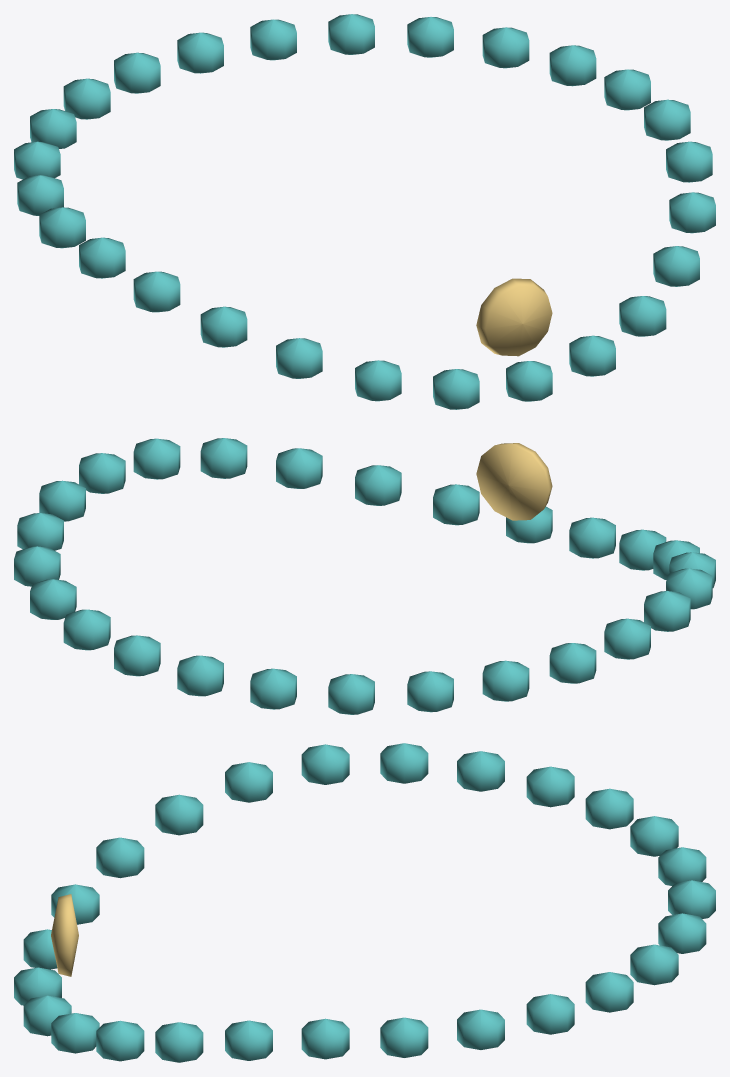
Rendered from acc-necklace.glb.
3 renders of one model, top to bottom at view 1: azimuth 30°, elevation 25°; view 2: azimuth 150°, elevation 25°; view 3: azimuth 270°, elevation 25°, orthographic.
Visible parts, largest first — view 1: pendant, bead22, bead21, bead8, bead9, bead2, bead24, bead13, bead12, bead14, bead0, bead7 (+15 smaller); view 2: pendant, bead5, bead11, bead17, bead4, bead18, bead13, bead12, bead16, bead19, bead25, bead3 (+15 smaller); view 3: bead11, bead6, bead10, bead23, bead7, bead3, bead20, bead22, bead9, bead19, bead4, bead16 (+15 smaller).
Boxes of the visible parts, <box> form: pendant: <box>476,278,552,356</box>; bead22: <box>200,306,247,347</box>; bead21: <box>133,271,180,312</box>; bead8: <box>549,45,596,86</box>; bead9: <box>482,27,529,68</box>; bead2: <box>619,296,666,336</box>; bead24: <box>355,360,401,401</box>; bead13: <box>177,32,223,73</box>; bead12: <box>250,19,296,60</box>; bead14: <box>114,52,160,93</box>; bead0: <box>506,361,552,401</box>; bead7: <box>604,69,650,110</box>; pendant: <box>476,443,552,520</box>; bead5: <box>133,438,180,479</box>; bead11: <box>63,609,110,650</box>; bead17: <box>482,660,529,701</box>; bead4: <box>200,438,247,478</box>; bead18: <box>549,643,596,683</box>; bead13: <box>177,655,223,696</box>; bead12: <box>114,635,160,676</box>; bead16: <box>407,671,453,712</box>; bead19: <box>604,618,650,659</box>; bead25: <box>569,517,615,558</box>; bead3: <box>276,448,322,488</box>; bead11: <box>630,944,678,985</box>; bead6: <box>301,1018,349,1059</box>; bead10: <box>585,972,633,1012</box>; bead23: <box>96,837,144,878</box>; bead7: <box>380,1017,428,1057</box>; bead3: <box>96,1020,144,1061</box>; bead20: <box>301,744,349,784</box>; bead22: <box>155,794,203,835</box>; bead9: <box>526,994,574,1034</box>; bead19: <box>380,743,428,783</box>; bead4: <box>155,1022,203,1062</box>; bead16: <box>585,788,633,829</box>.
Size of the model in its own units: 2.18 by 0.44 by 2.19.
